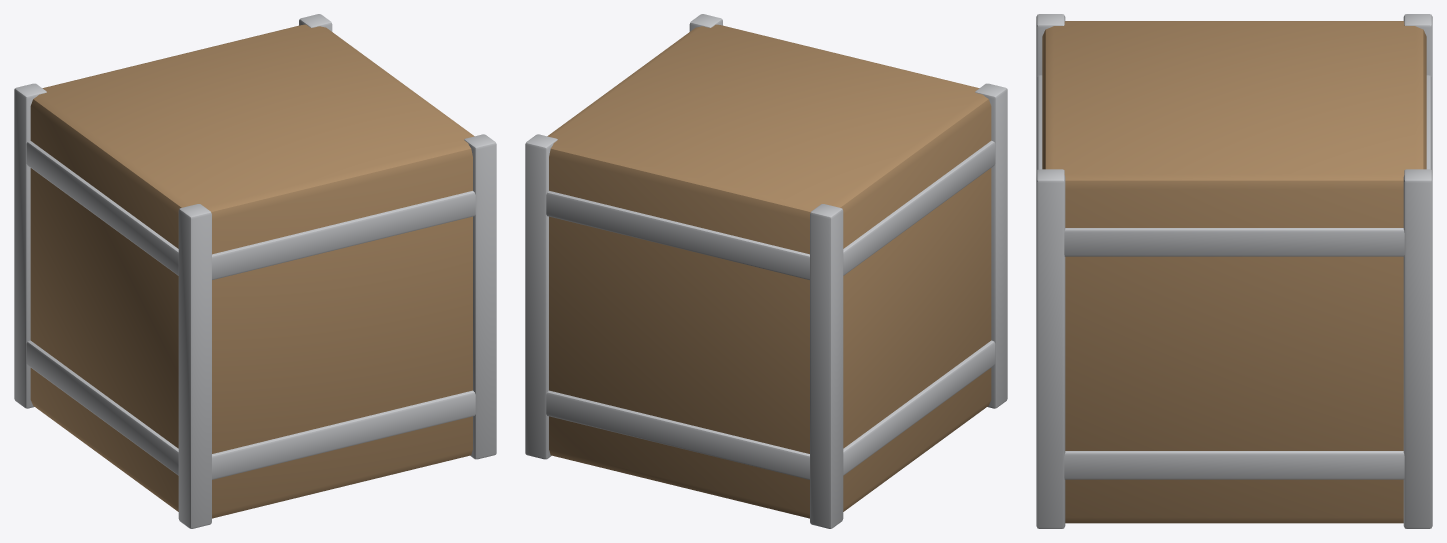
File: crate.fbx
3 views of the same model, side by side, from view 1: azimuth 30°, elevation 25°; view 2: azimuth 150°, elevation 25°; view 3: azimuth 270°, elevation 25° (orthographic). The views are drawn at different scales.
Parts seen in each view (by area): view 1: Crate; view 2: Crate; view 3: Crate.
Part boxes in pixels (box(x1,y1,x2,y2)): Crate: box(14, 14, 496, 528); Crate: box(525, 14, 1007, 528); Crate: box(1036, 14, 1432, 528).
Size of the model in its own units: 1.03 by 1 by 1.03.
